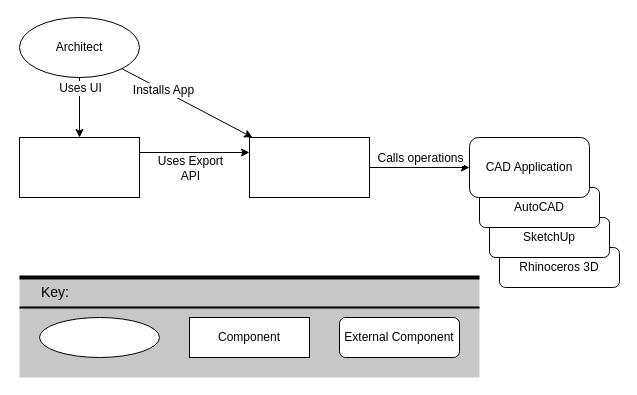
The diagram is 637 pixels wide and 395 high, and some of its shapes have lost their labels. The shapes that lost their labels are listed below. From the top down, each one's centre as x and y in pixels, then its label:
At (x=79, y=167): "Web Page".
At (x=309, y=167): "Remote CAD App".
At (x=99, y=337): "User".
